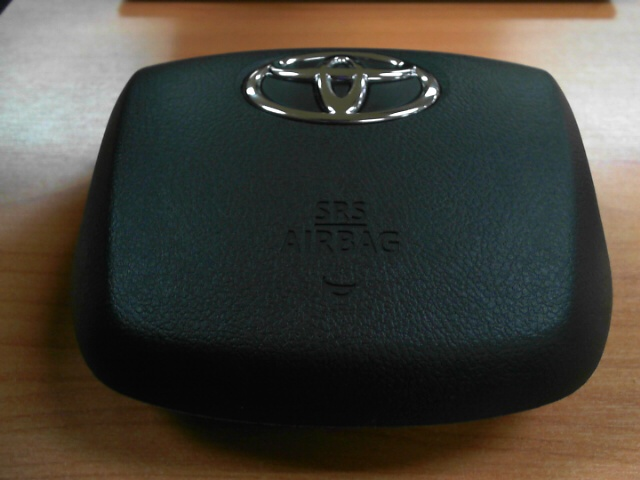Airbag: (72, 50, 611, 428)
